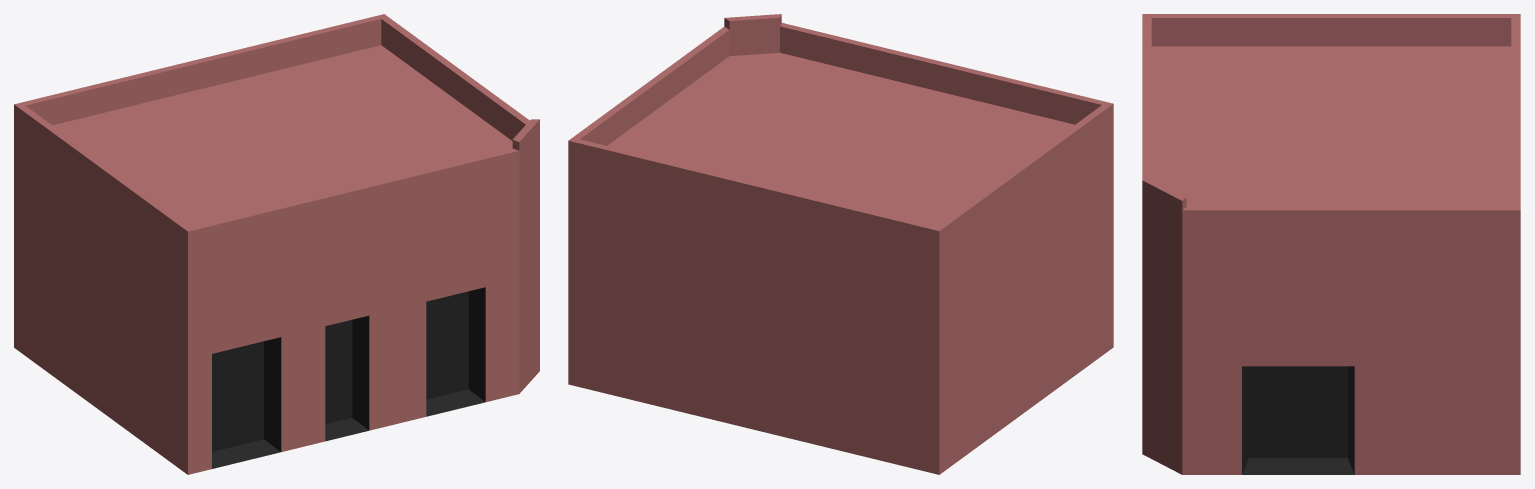
Rendered from loja_9.fbx.
The picture shows the model from 3 angles, left to right: view 1: azimuth 30°, elevation 25°; view 2: azimuth 150°, elevation 25°; view 3: azimuth 270°, elevation 25°; orthographic projection. The views are drawn at different scales.
Parts seen in each view (by area): view 1: Cube; view 2: Cube; view 3: Cube.
Part boxes in pixels (box(x1,y1,x2,y2)): Cube: box(14, 14, 539, 474); Cube: box(568, 14, 1113, 474); Cube: box(1142, 14, 1520, 474).
Bounding box in the file's own units: 1941 × 1262 × 1579.
